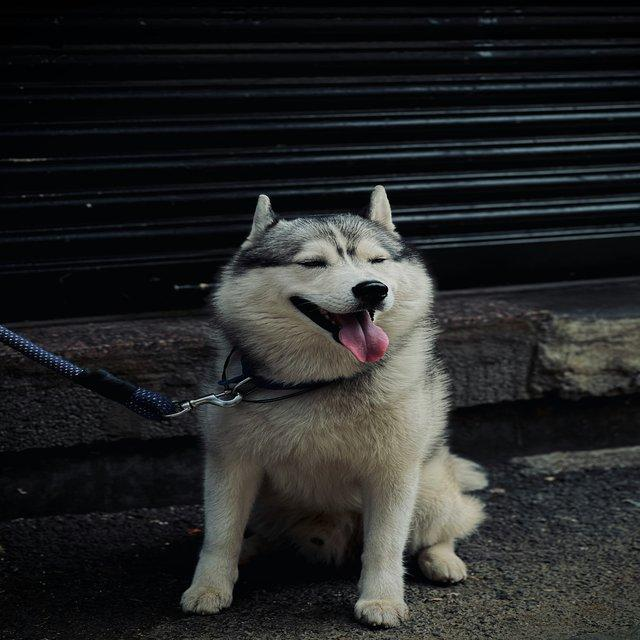husky: (178, 183, 489, 628)
